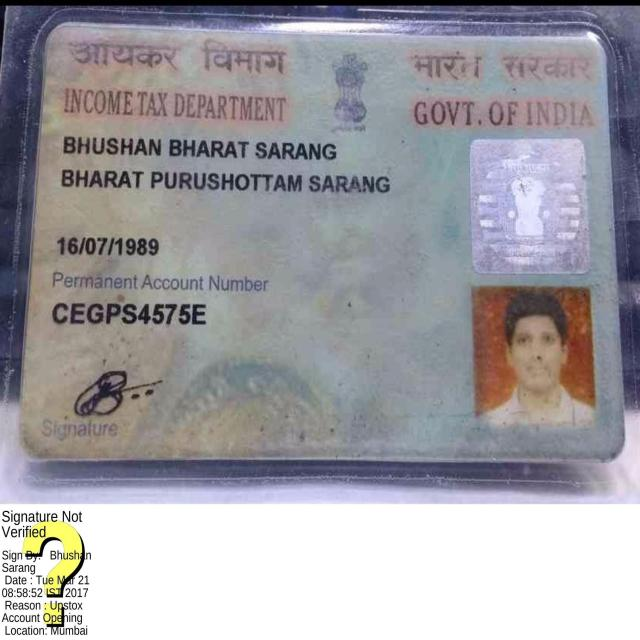pan_card: (33, 21, 619, 452)
